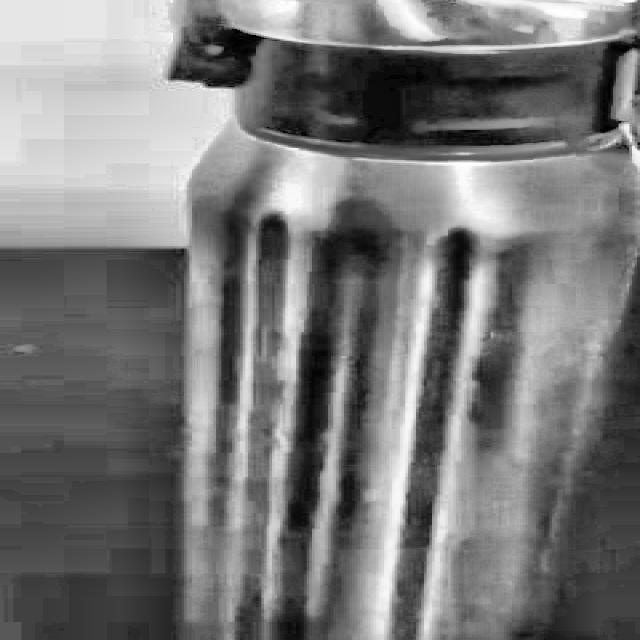bottle: (168, 0, 640, 640)
